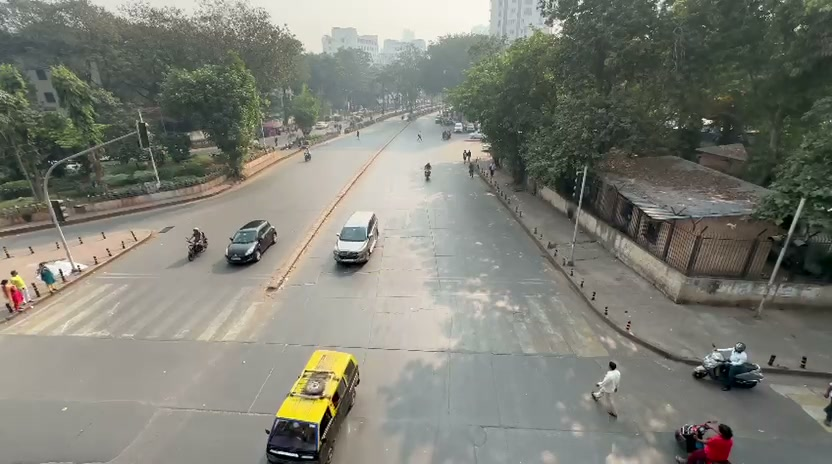bus: (264, 349, 361, 462)
car: (333, 210, 380, 265), (225, 219, 278, 265)
motorcycle: (187, 230, 207, 261), (187, 240, 198, 261)
pedestrian: (684, 422, 734, 463), (591, 361, 621, 420), (699, 423, 734, 463), (7, 269, 29, 311), (1, 280, 18, 313), (731, 341, 748, 367), (463, 150, 471, 168), (304, 147, 311, 162)
